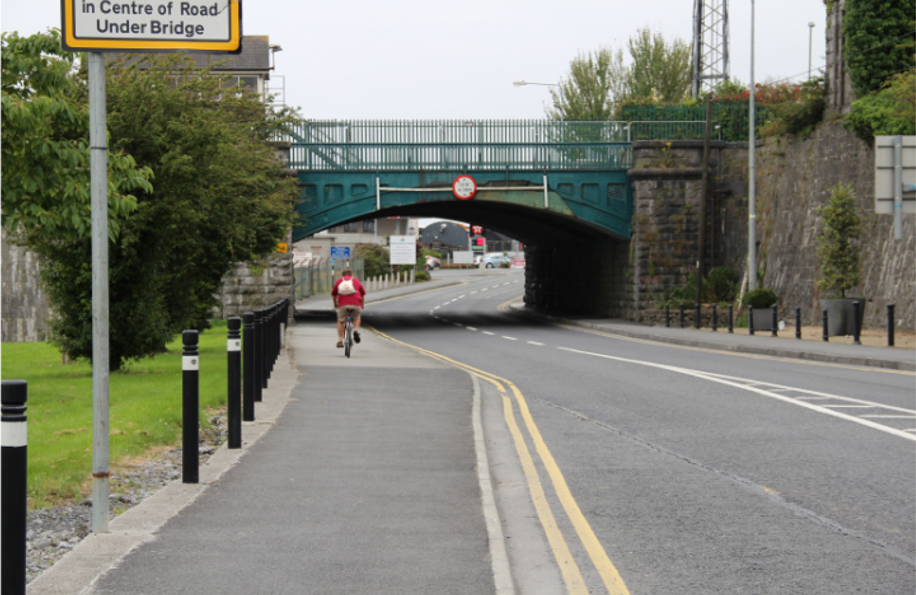bridge: (248, 106, 634, 238)
